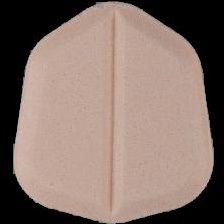55289-410: (0, 0, 224, 224)
